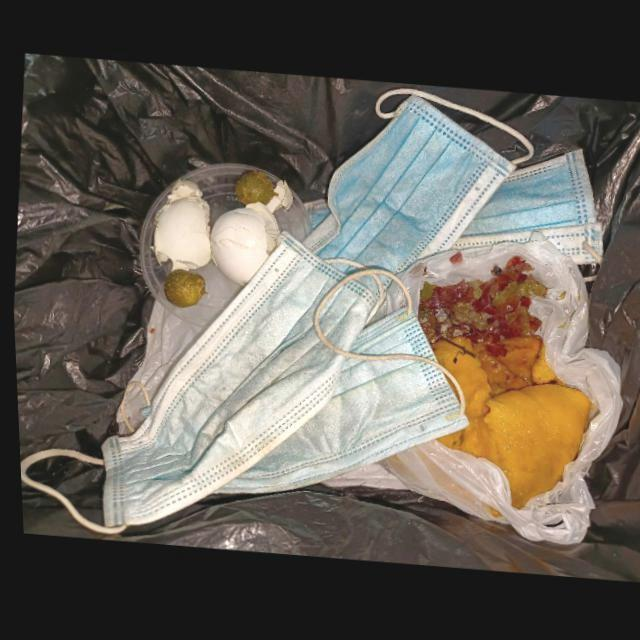plastic_bag: (374, 241, 619, 547)
